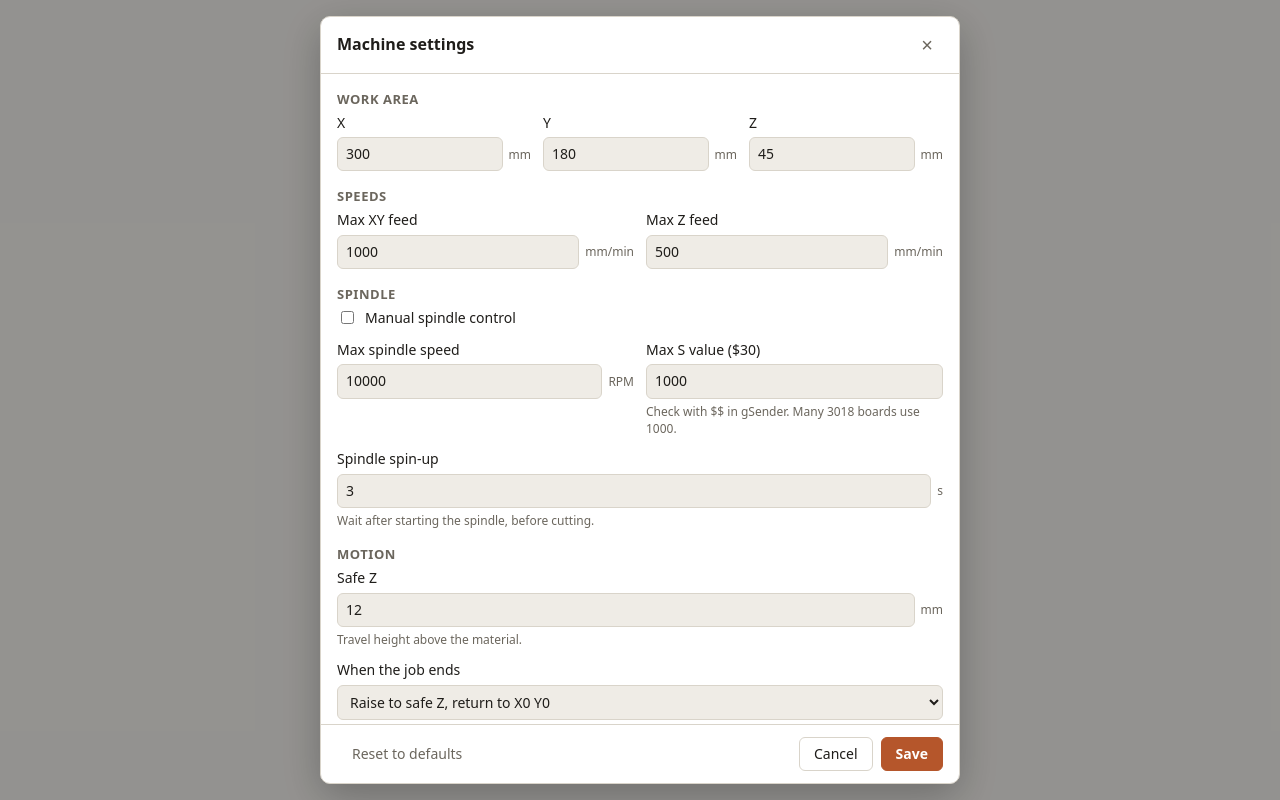
Test: MachineSettingsDialog › reset to defaults refills the fields
Expected: the number field labelled "Safe Z" holds "12", [337,592,914,627]
Click the button "Reset to defaults": coordinates (407, 754) [337,737,477,771]
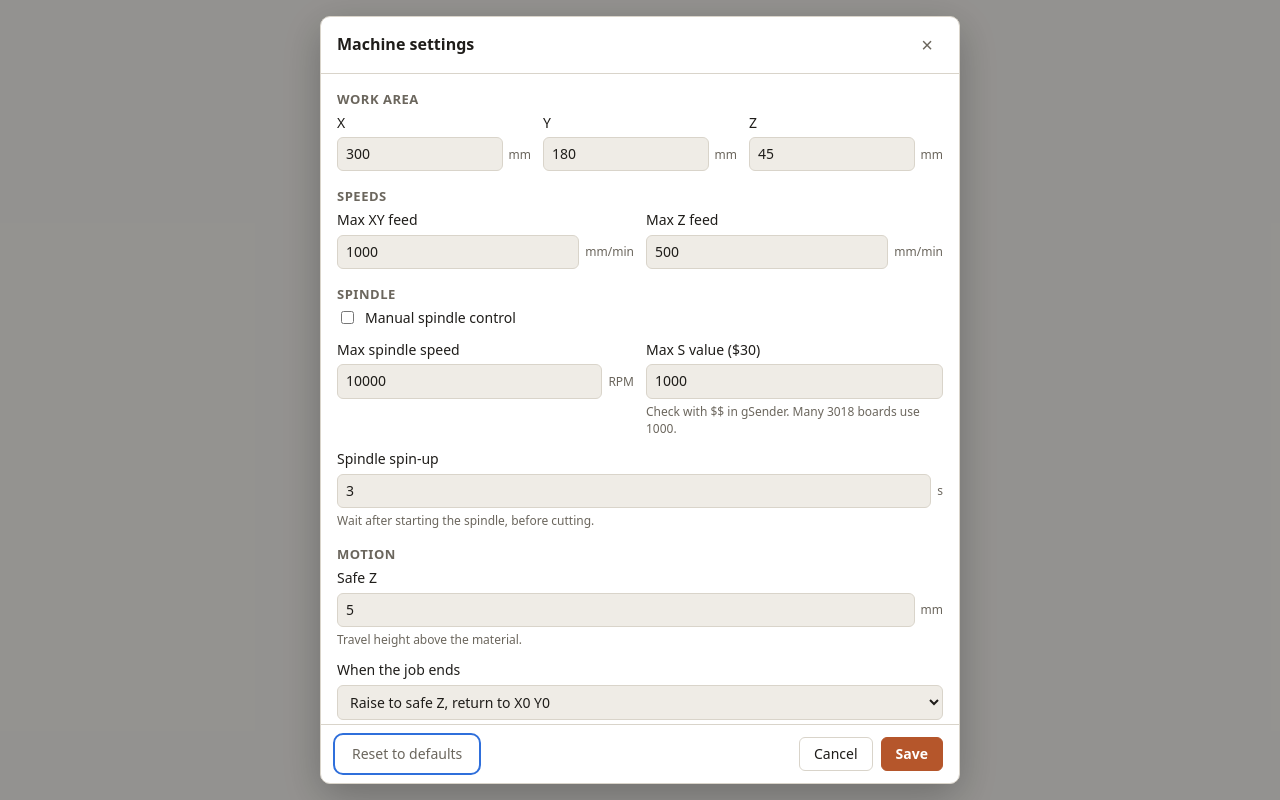
Result: the number field labelled "Safe Z" holds "5" at [337,592,914,627]
